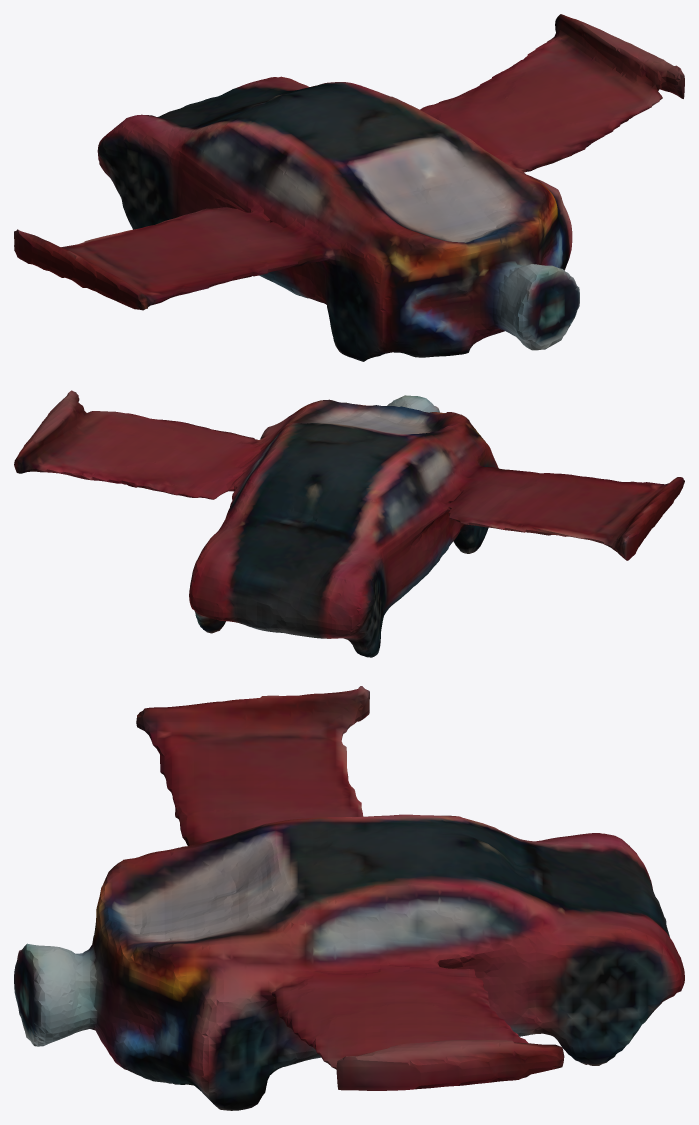
The model's file is ours-conv.glb.
3 renders of one model, top to bottom at view 1: azimuth 30°, elevation 25°; view 2: azimuth 150°, elevation 25°; view 3: azimuth 270°, elevation 25°, orthographic. The views are drawn at different scales.
Parts seen in each view (by area): view 1: ours.obj; view 2: ours.obj; view 3: ours.obj.
Part boxes in pixels (x1,y1,x2,y2): ours.obj: (14, 14, 684, 361); ours.obj: (14, 390, 684, 657); ours.obj: (14, 686, 684, 1110).
Bounding box in the file's own units: 1.98 × 0.4583 × 1.48.
